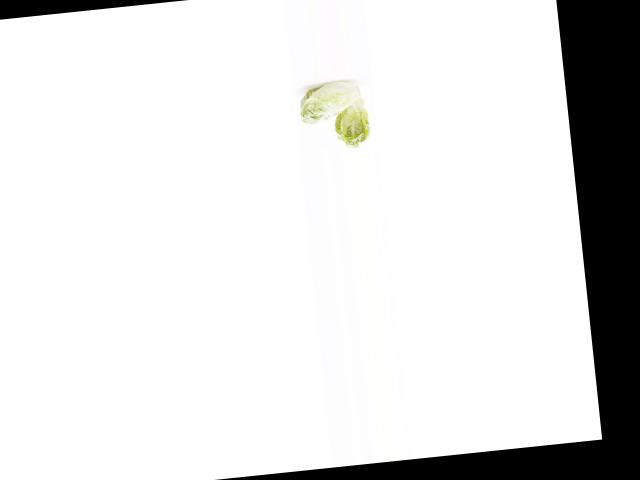lettuce: (293, 76, 367, 129)
